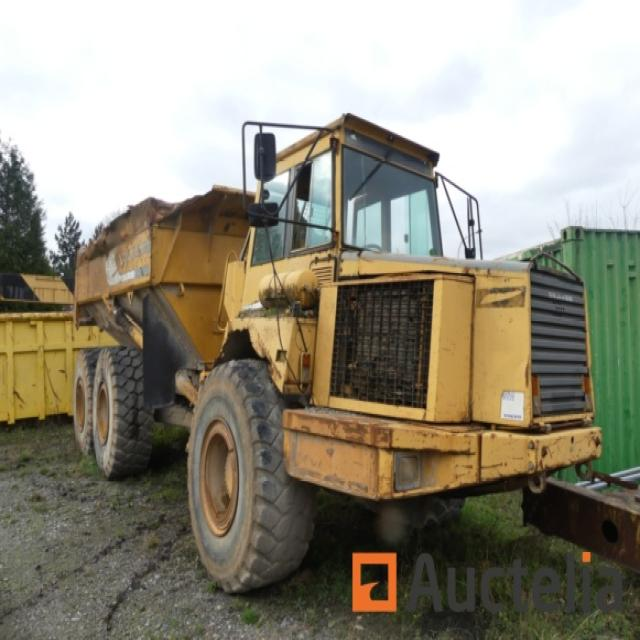dump_truck: (60, 107, 590, 593)
